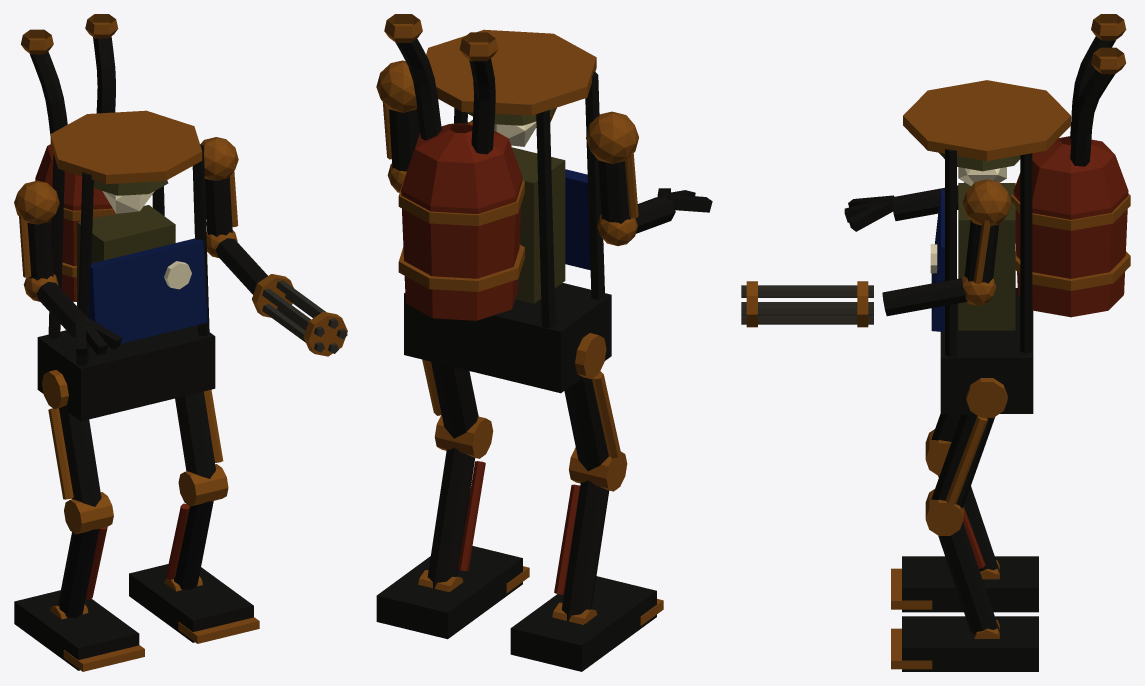
Rendered from Tetera.obj.
The picture shows the model from 3 angles, left to right: view 1: azimuth 30°, elevation 25°; view 2: azimuth 150°, elevation 25°; view 3: azimuth 270°, elevation 25°; orthographic projection. The views are drawn at different scales.
Parts seen in each view (by area): view 1: Torso, Cuerpo, Rodilla_I, Rodilla_D, Brazo_I, Brazo_D, Pierna_I, Canones, Pierna_D; view 2: Torso, Rodilla_I, Rodilla_D, Cuerpo, Brazo_I, Pierna_I, Brazo_D, Pierna_D; view 3: Torso, Rodilla_D, Rodilla_I, Cuerpo, Brazo_D, Canones, Pierna_D, Brazo_I, Pierna_I.
Part boxes in pixels (x1=…): Torso: x1=21, y1=14, x2=209, y2=365; Cuerpo: x1=37, y1=325, x2=215, y2=421; Rodilla_I: x1=14, y1=492, x2=144, y2=671; Rodilla_D: x1=129, y1=464, x2=259, y2=643; Brazo_I: x1=14, y1=180, x2=122, y2=356; Brazo_D: x1=201, y1=137, x2=267, y2=294; Pierna_I: x1=42, y1=370, x2=101, y2=506; Canones: x1=252, y1=274, x2=347, y2=356; Pierna_D: x1=175, y1=389, x2=223, y2=478; Torso: x1=384, y1=14, x2=605, y2=328; Rodilla_I: x1=510, y1=447, x2=663, y2=671; Rodilla_D: x1=376, y1=415, x2=529, y2=639; Cuerpo: x1=404, y1=283, x2=611, y2=393; Brazo_I: x1=586, y1=111, x2=712, y2=245; Pierna_I: x1=564, y1=333, x2=620, y2=471; Brazo_D: x1=376, y1=60, x2=420, y2=192; Pierna_D: x1=422, y1=359, x2=478, y2=438; Torso: x1=903, y1=14, x2=1130, y2=356; Rodilla_D: x1=891, y1=489, x2=1038, y2=671; Rodilla_I: x1=891, y1=429, x2=1038, y2=612; Cuerpo: x1=940, y1=288, x2=1033, y2=413; Brazo_D: x1=882, y1=179, x2=1011, y2=316; Canones: x1=741, y1=281, x2=873, y2=327; Pierna_D: x1=931, y1=378, x2=1007, y2=508; Brazo_I: x1=844, y1=182, x2=965, y2=231; Pierna_I: x1=931, y1=414, x2=961, y2=441.
Bounding box in the file's own units: 1.24 × 2.94 × 1.76.
